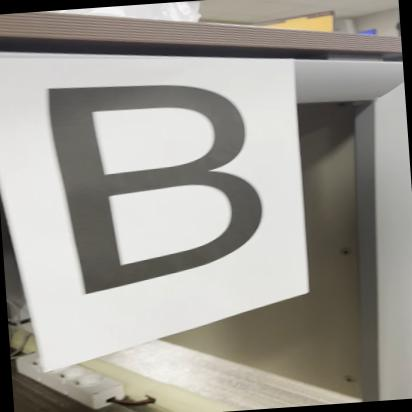seat: (34, 60, 293, 304)
